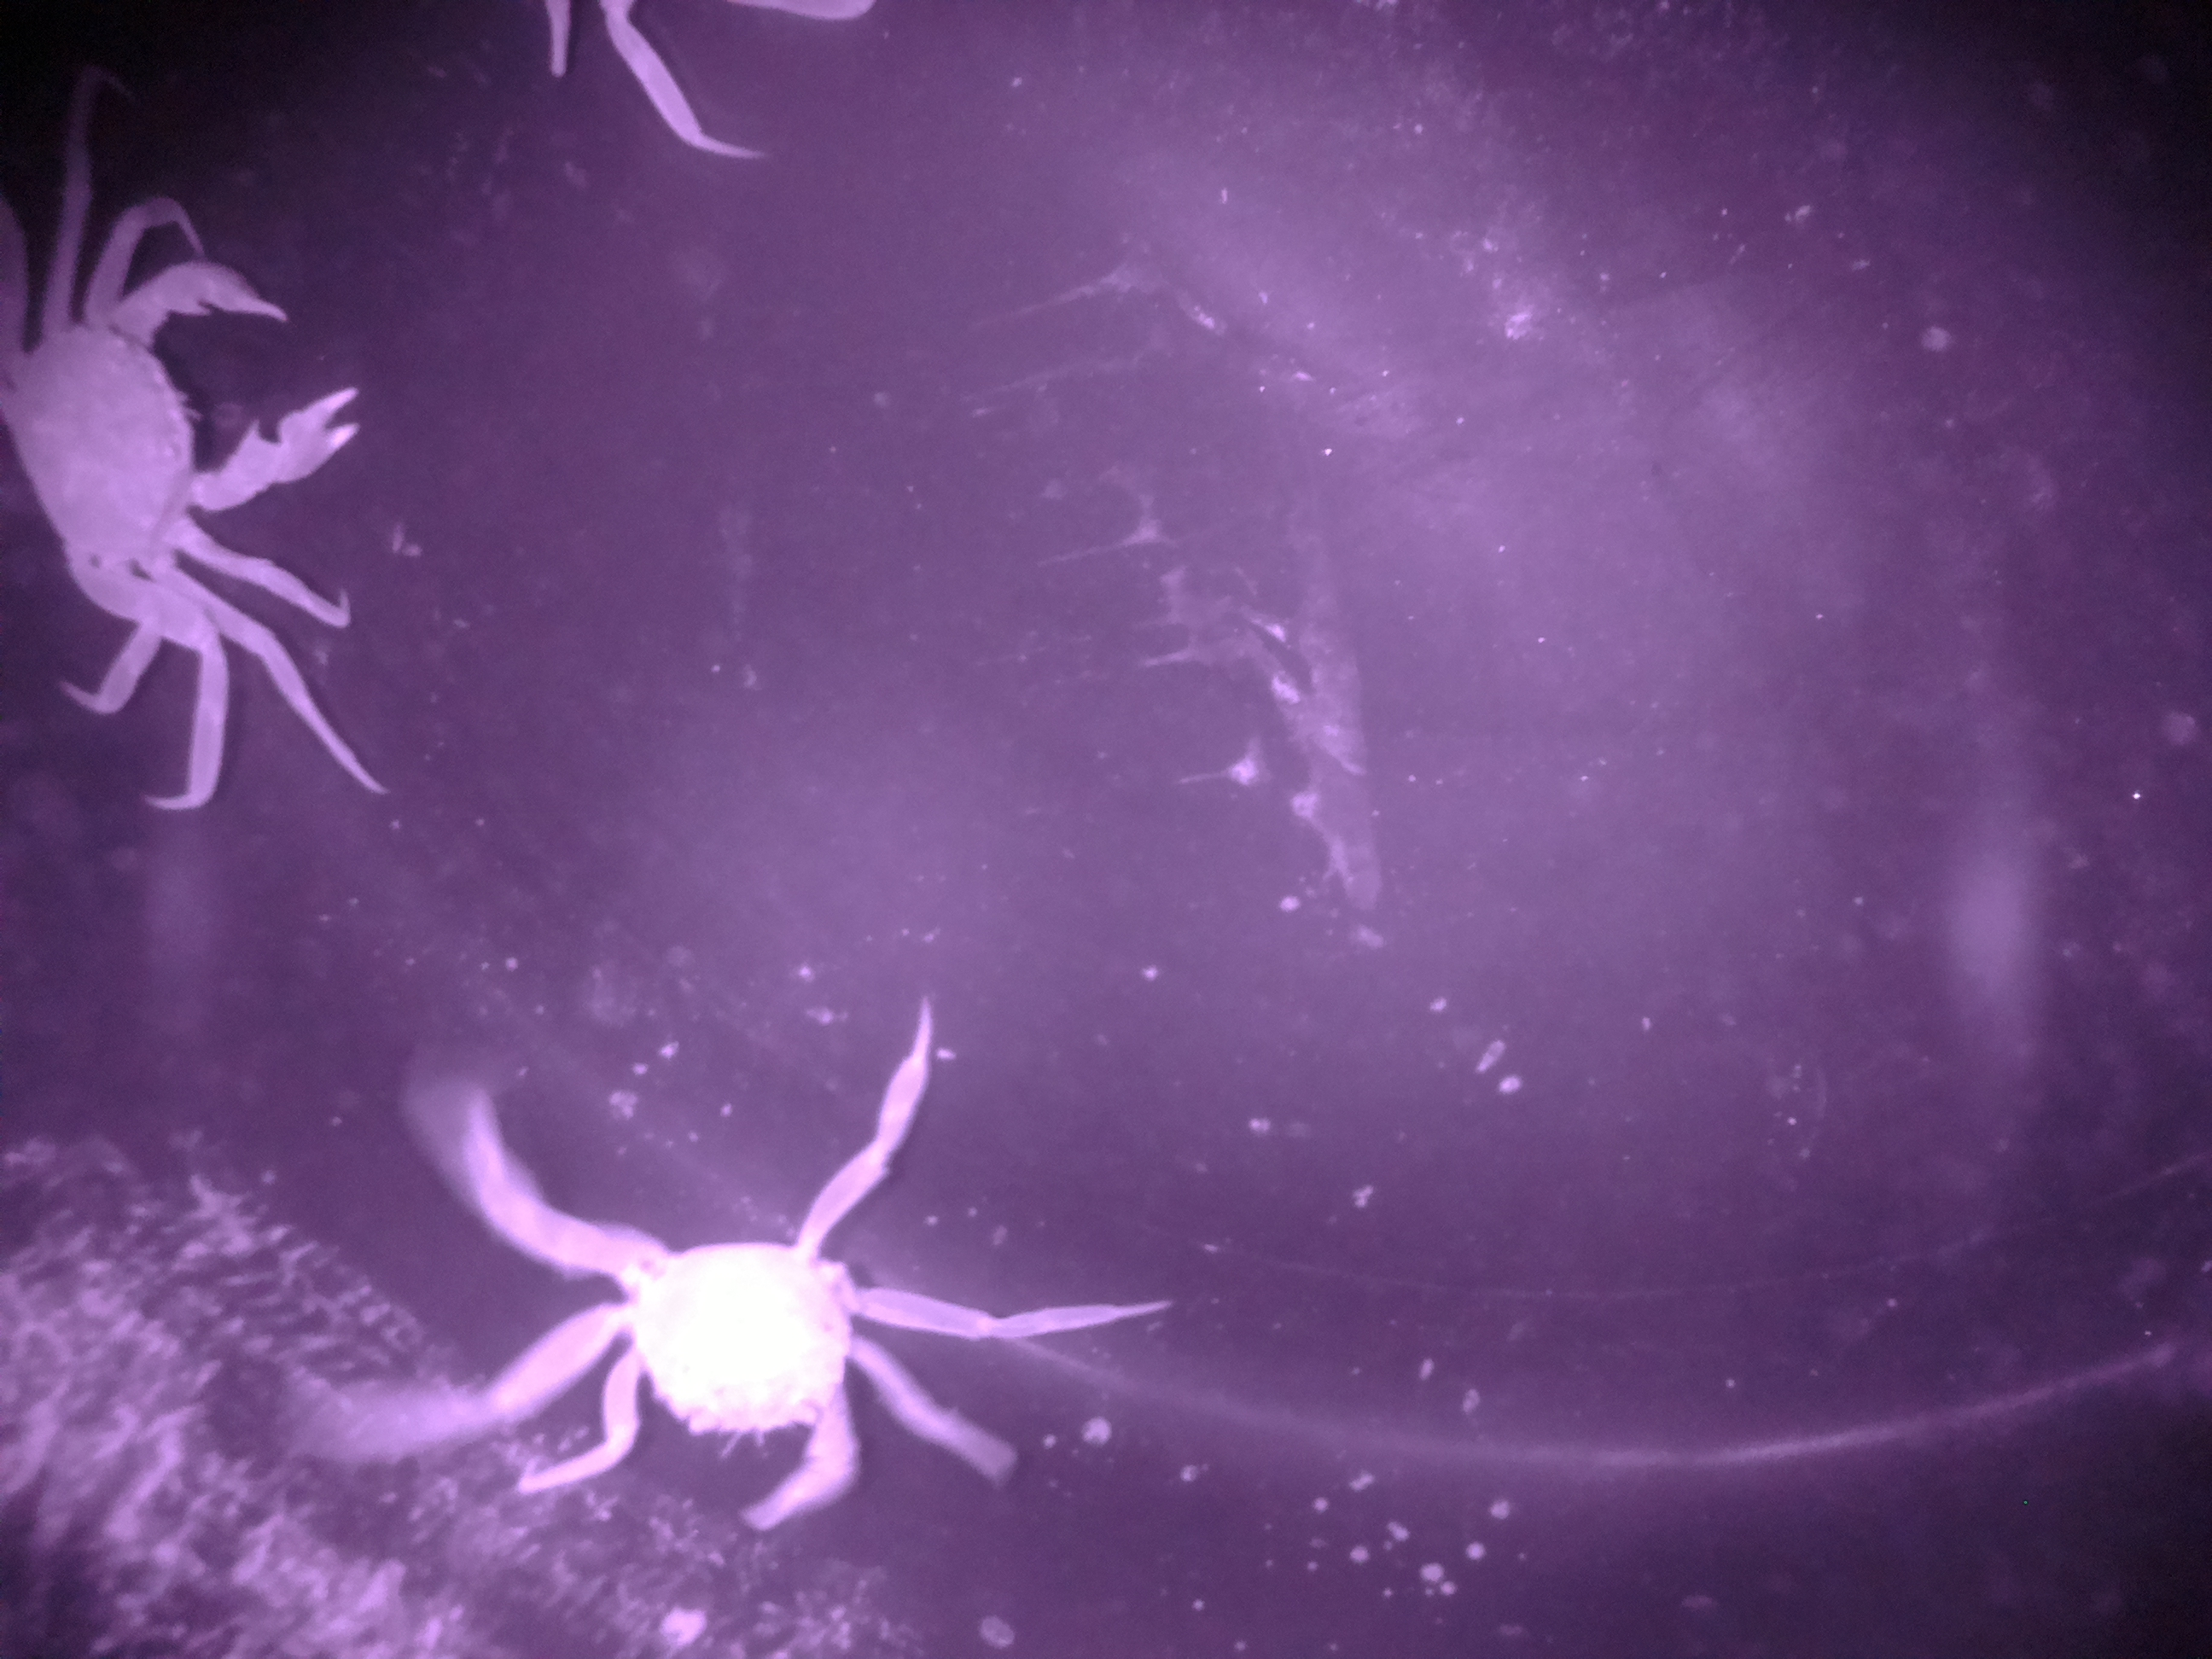Crab: (0, 197, 392, 655), (545, 1168, 967, 1567)
